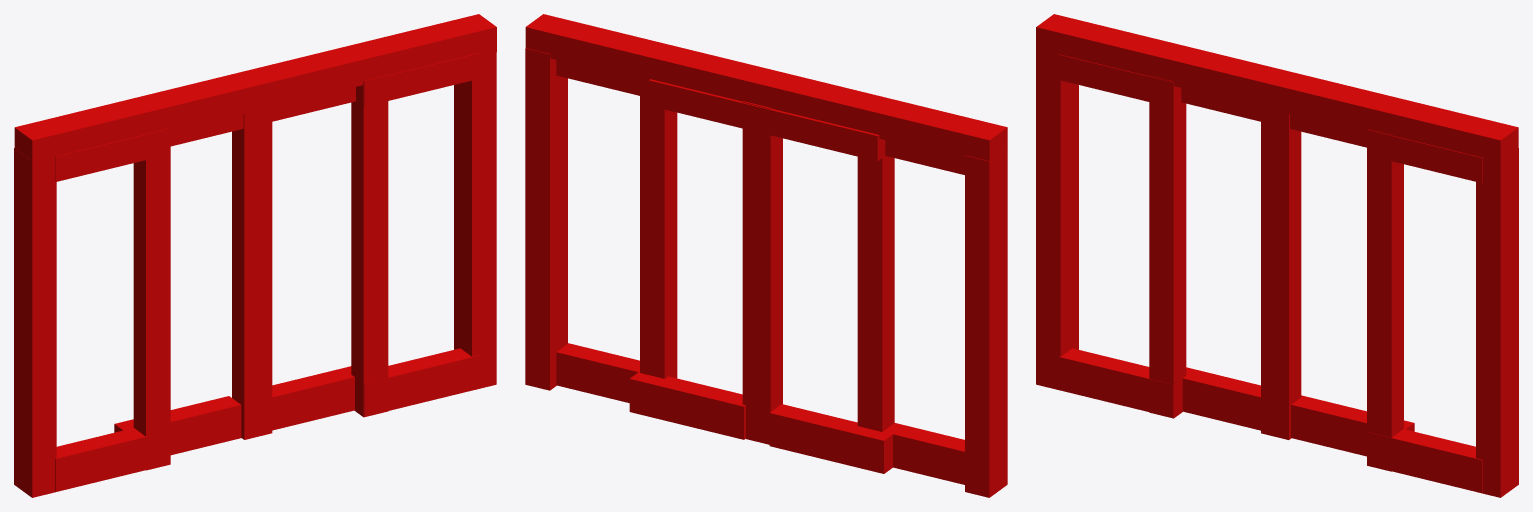
The model's file is store_door.fbx.
The picture shows the model from 3 angles, left to right: view 1: azimuth 30°, elevation 25°; view 2: azimuth 150°, elevation 25°; view 3: azimuth 330°, elevation 25°; orthographic projection.
Parts seen in each view (by area): view 1: pCube4, pCube5, pCube6, pCube19, pCube18, pCube13, pCube15, pCube12, pCube14, pCube16, pCube17, pCube8 (+3 smaller); view 2: pCube4, pCube5, pCube6, pCube19, pCube18, pCube13, pCube17, pCube16, pCube12, pCube14, pCube10, pCube15 (+3 smaller); view 3: pCube4, pCube6, pCube5, pCube18, pCube19, pCube12, pCube15, pCube14, pCube13, pCube17, pCube16, pCube8 (+3 smaller).
Part boxes in pixels (x1,y1,x2,y2): pCube4: [14, 14, 496, 165]; pCube5: [14, 148, 56, 497]; pCube6: [454, 52, 496, 388]; pCube19: [351, 74, 388, 417]; pCube18: [133, 128, 170, 470]; pCube13: [232, 110, 258, 439]; pCube15: [55, 428, 170, 491]; pCube12: [258, 107, 272, 436]; pCube14: [364, 348, 479, 416]; pCube16: [272, 366, 354, 430]; pCube17: [114, 396, 241, 455]; pCube8: [364, 53, 479, 106]; pCube4: [525, 14, 1007, 161]; pCube5: [965, 148, 1007, 497]; pCube6: [525, 48, 567, 390]; pCube19: [640, 80, 677, 378]; pCube18: [857, 156, 894, 431]; pCube13: [756, 104, 782, 444]; pCube17: [769, 404, 895, 473]; pCube16: [629, 371, 745, 439]; pCube12: [742, 101, 756, 441]; pCube14: [556, 343, 639, 402]; pCube10: [763, 108, 885, 161]; pCube15: [886, 423, 964, 484]; pCube4: [1036, 14, 1518, 165]; pCube6: [1476, 148, 1518, 497]; pCube5: [1036, 52, 1078, 389]; pCube18: [1149, 75, 1186, 418]; pCube19: [1367, 129, 1403, 471]; pCube12: [1274, 111, 1301, 439]; pCube15: [1058, 348, 1173, 417]; pCube14: [1367, 429, 1482, 493]; pCube13: [1261, 107, 1274, 436]; pCube17: [1182, 367, 1260, 430]; pCube16: [1291, 395, 1414, 456]; pCube8: [1367, 130, 1482, 183].
Size of the model in its own units: 166 by 122 by 13.15.
